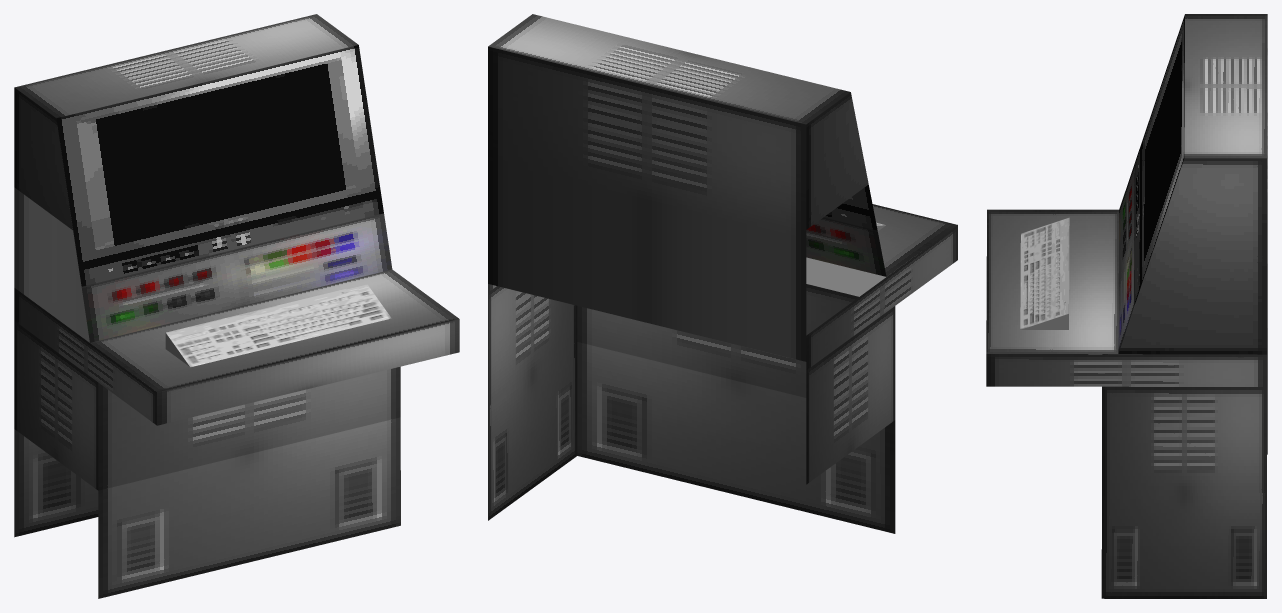
File: console_1.glb
The picture shows the model from 3 angles, left to right: view 1: azimuth 30°, elevation 25°; view 2: azimuth 150°, elevation 25°; view 3: azimuth 270°, elevation 25°; orthographic projection. The views are drawn at different scales.
Visible parts, largest first — view 1: Object; view 2: Object; view 3: Object.
Part boxes in pixels (left/top/right/bottom): Object: left=14, top=14, right=459, bottom=598; Object: left=488, top=14, right=957, bottom=533; Object: left=986, top=14, right=1267, bottom=598.
Bounding box in the file's own units: 1.25 × 1.78 × 1.03.
20 materials, 20 textured.
